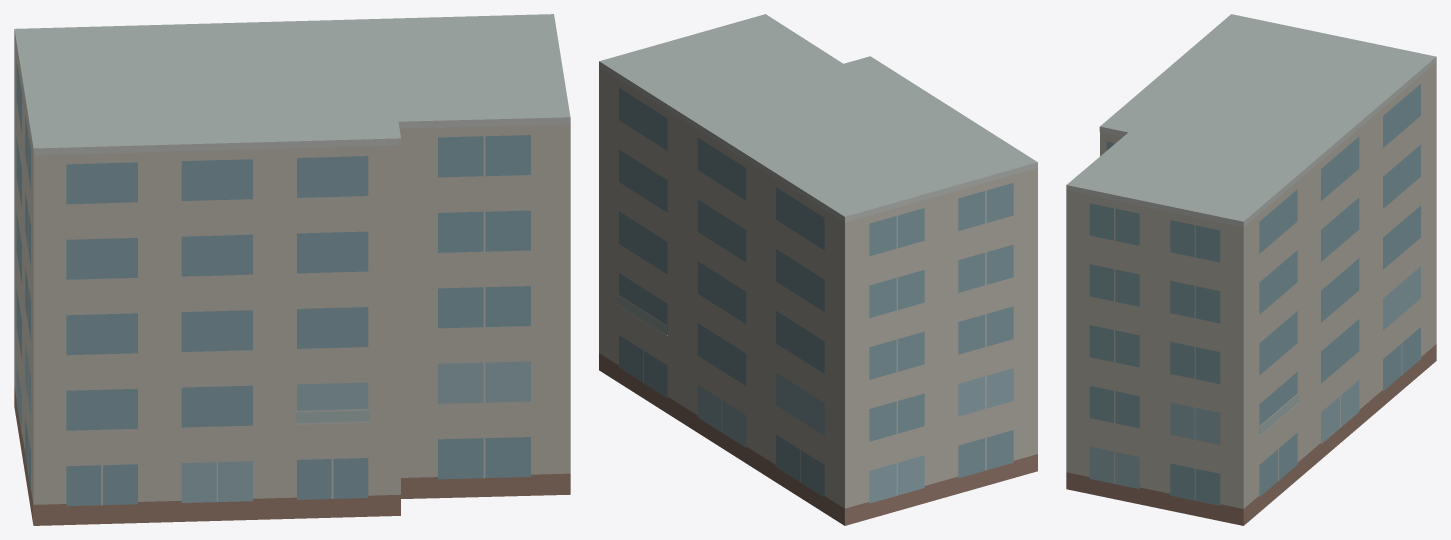
Rendered from survey-upis-32533120.glb.
3 renders of one model, left to right at view 1: azimuth 30°, elevation 25°; view 2: azimuth 150°, elevation 25°; view 3: azimuth 270°, elevation 25°, orthographic. The views are drawn at different scales.
Parts seen in each view (by area): view 1: survey-upis-32533120.tmp; view 2: survey-upis-32533120.tmp; view 3: survey-upis-32533120.tmp.
Part boxes in pixels (<box>): survey-upis-32533120.tmp: <box>14,14,570,525</box>; survey-upis-32533120.tmp: <box>599,14,1037,525</box>; survey-upis-32533120.tmp: <box>1066,14,1436,525</box>.
Size of the model in its own units: 19.34 by 13.2 by 14.57.
